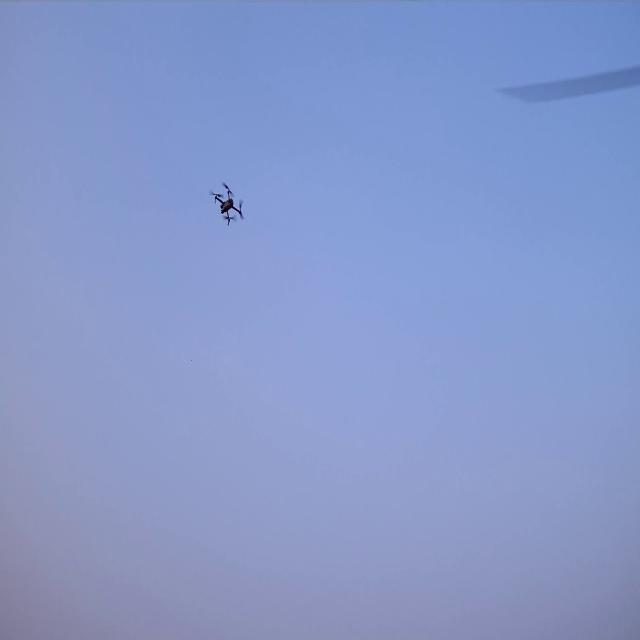UAV: (215, 185, 241, 225)
